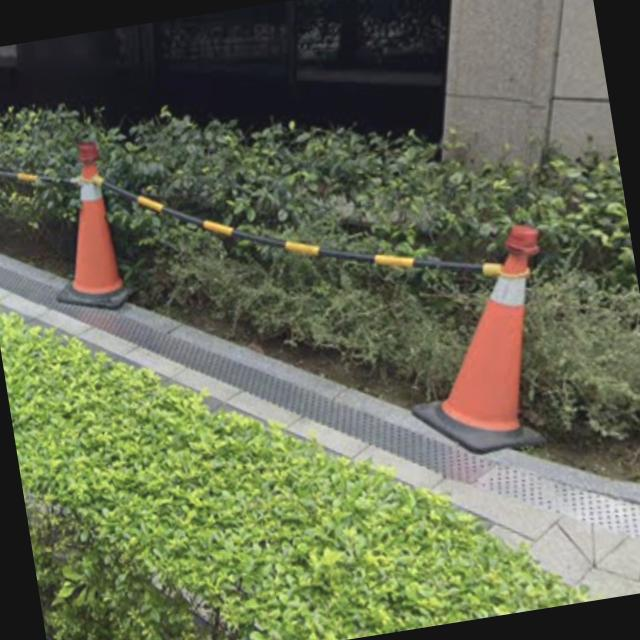cone: (404, 242, 556, 448), (44, 156, 134, 306)
